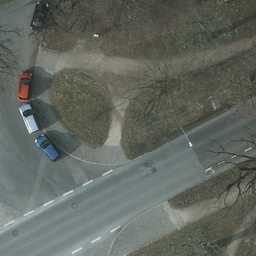car: (34, 136, 60, 163), (19, 105, 39, 134), (32, 1, 47, 30), (17, 71, 31, 101)
